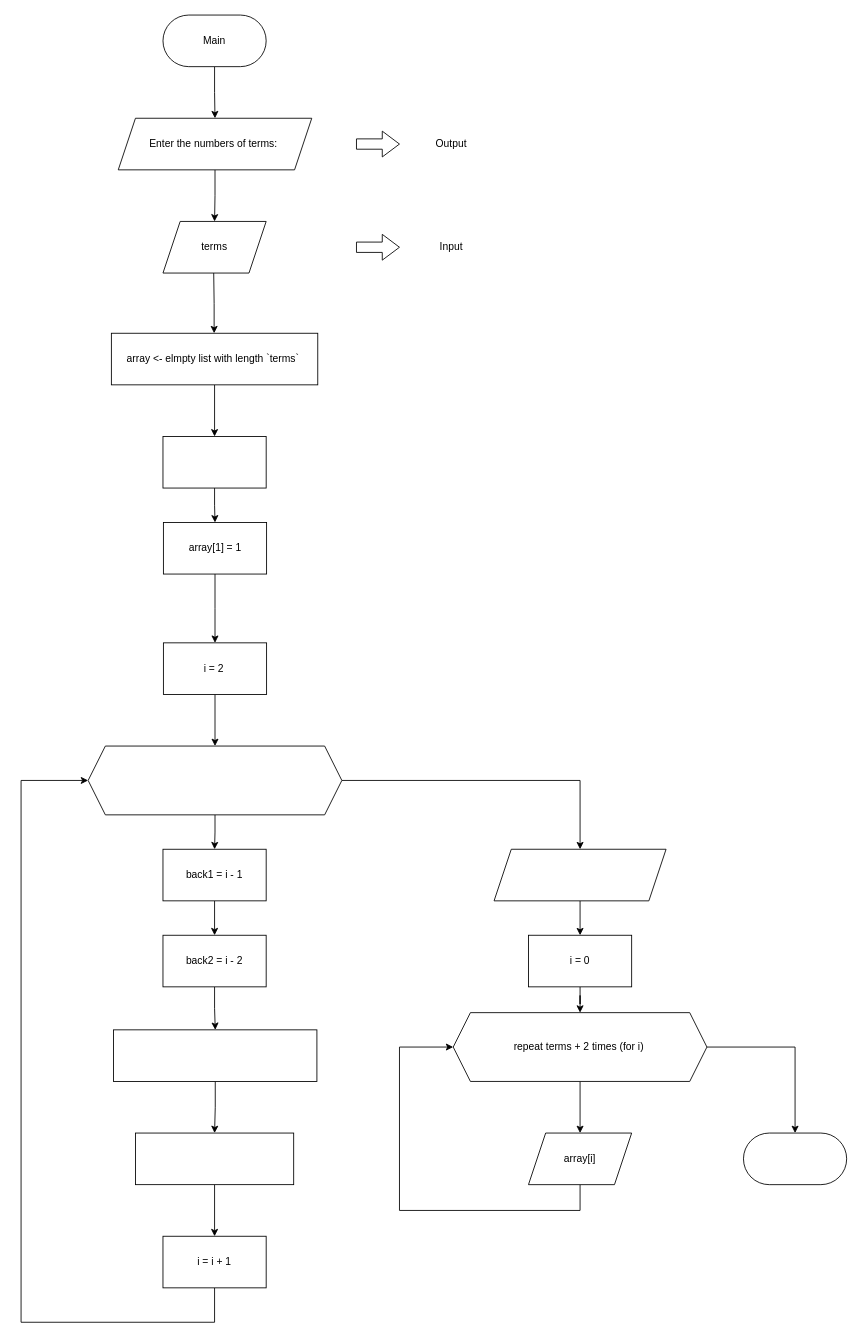
Image size: 862x1344. Some labels were removed from this diagram. Each missing label, with the box of its shape:
array[0] = 0: (162, 436, 266, 488)
array[i] = elem: (135, 1132, 294, 1185)
elem = array[back1] + array[back2]: (113, 1029, 317, 1081)
END: (743, 1132, 847, 1185)
Fibonacci Series:: (493, 848, 666, 901)
repeat terms times (for i): (87, 745, 342, 815)
